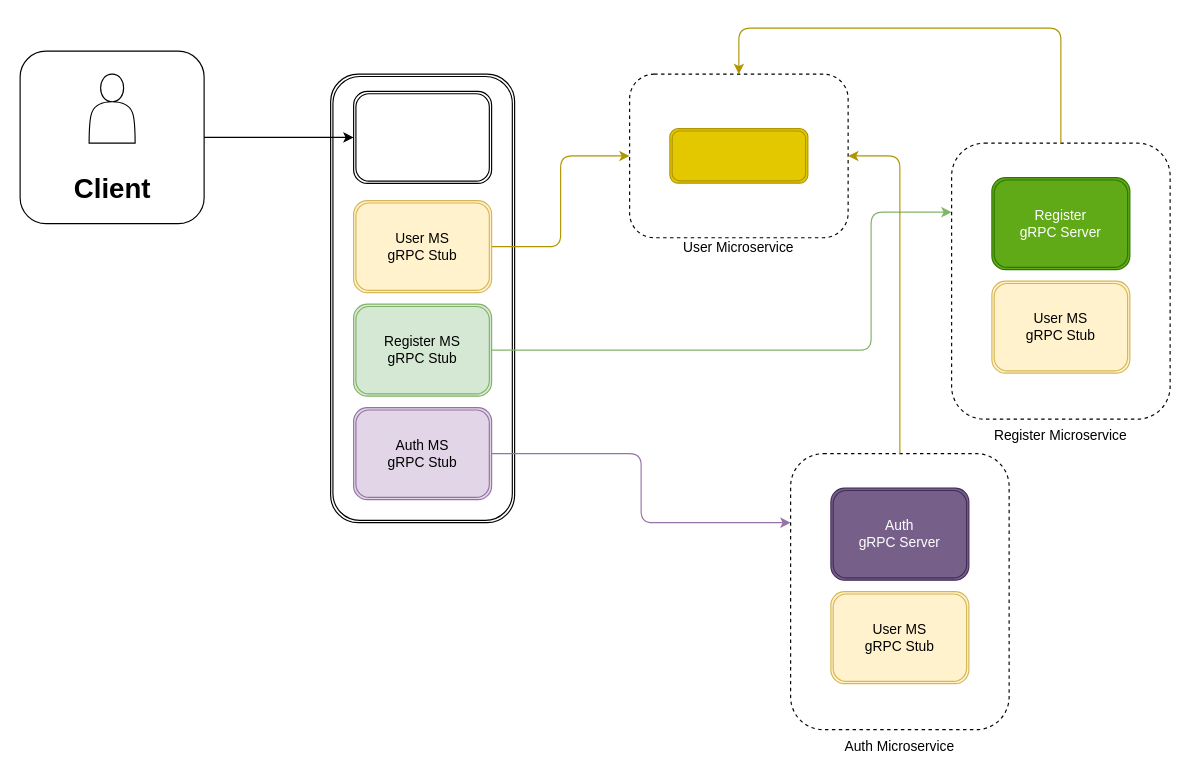
The diagram is 1190 pixels wide and 784 high, and some of its shapes have lost their labels. Here are the shapes that lost their labels. From the top down, the box of each, then its label:
(352, 90, 492, 183): API Gateway Fast API Server
(669, 128, 808, 183): User gRPC Server
